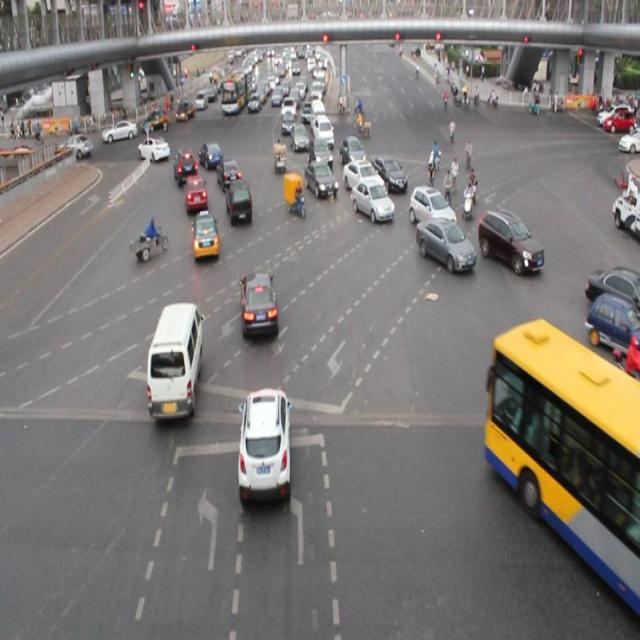car: (238, 387, 292, 502), (478, 208, 543, 272), (586, 293, 640, 358), (414, 216, 475, 271), (584, 263, 640, 313), (238, 270, 278, 339), (407, 186, 454, 230), (351, 178, 394, 222), (343, 160, 384, 196), (369, 155, 406, 192), (191, 212, 220, 259), (226, 180, 254, 227), (304, 160, 336, 198), (172, 148, 197, 187), (183, 173, 208, 212), (339, 133, 366, 169), (306, 135, 332, 171), (216, 156, 242, 191), (137, 136, 169, 162), (199, 140, 222, 169)
truck: (145, 302, 198, 420)
van: (482, 320, 640, 621)
